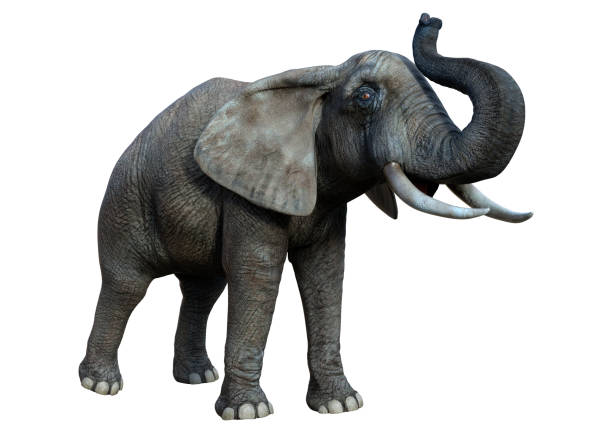africanelephant: (307, 61, 536, 241)
